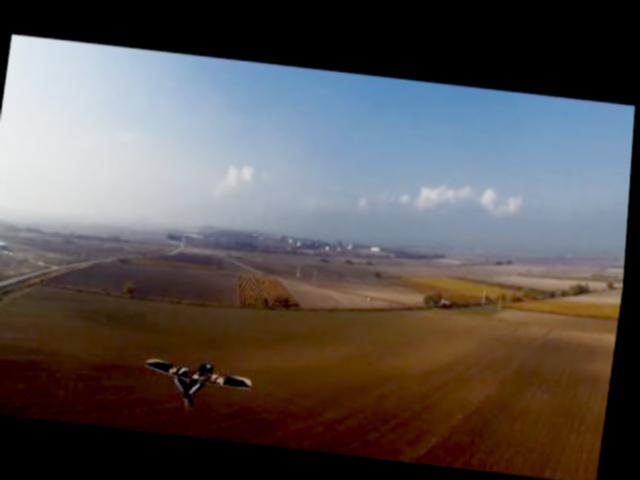uav: (142, 348, 262, 412)
